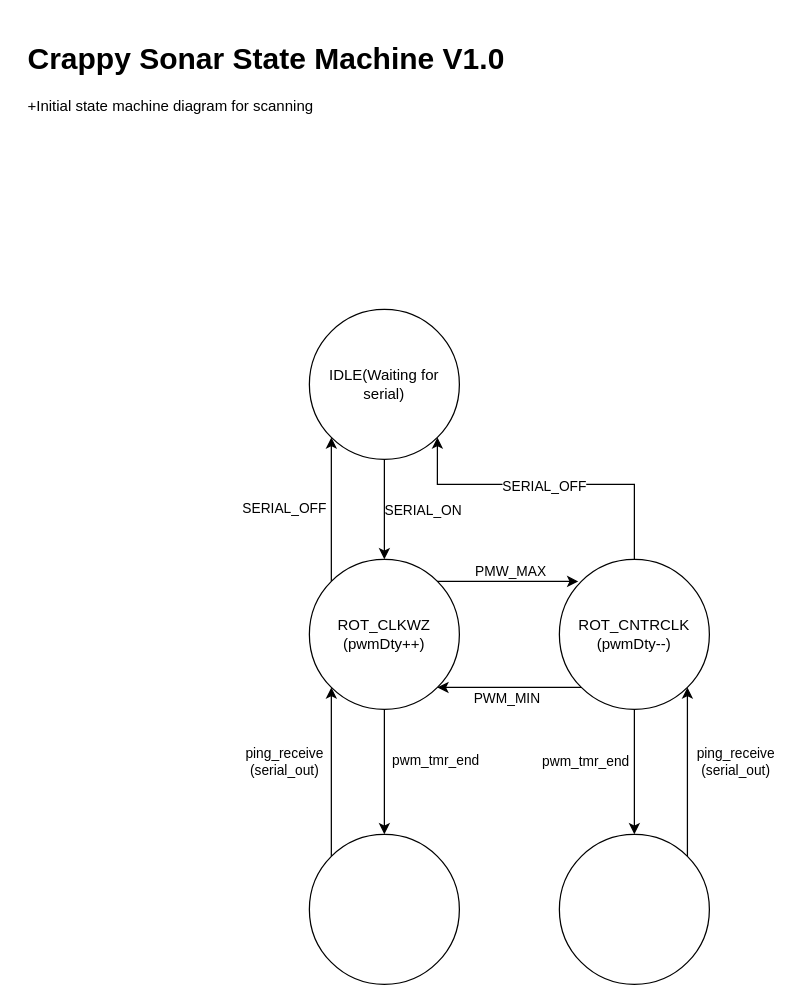
This 795x1006 diagram has some shape labels left out. The centre of each missing label's shape, as x and y in pixels:
PING_EN_CLKWZ (allow_ping): (x=383, y=908)
PING_EN_CNTR (allow_ping): (x=633, y=908)
